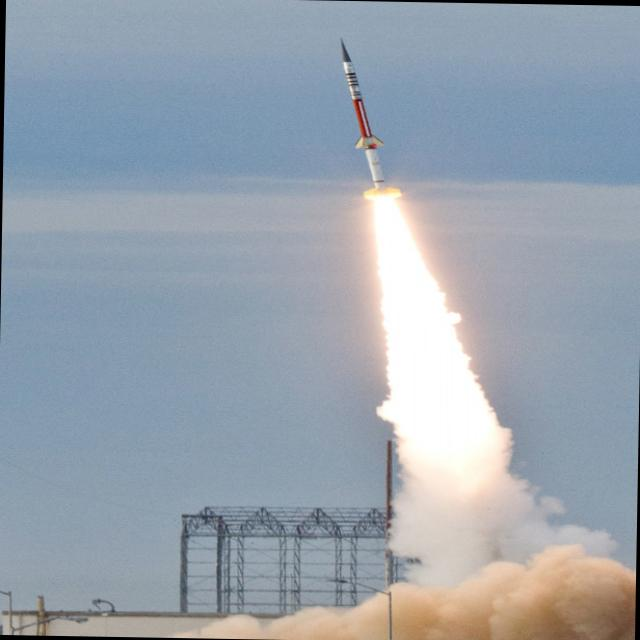rocket: (320, 28, 460, 374)
